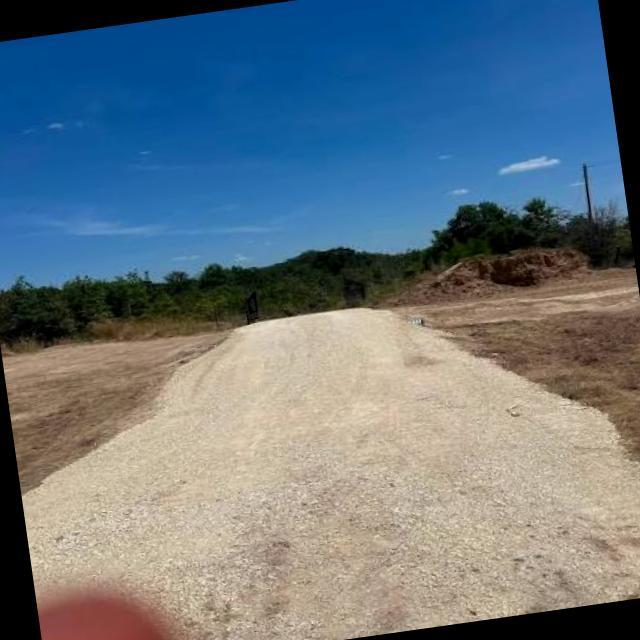suelo_seco: (175, 296, 428, 624)
